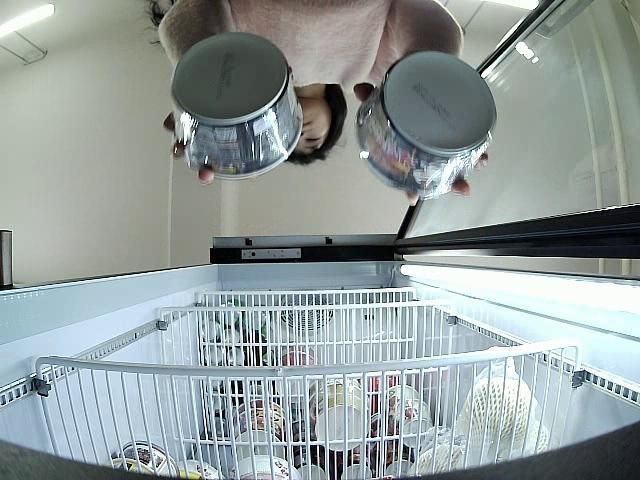07_buldak_L: (356, 47, 494, 192), (172, 31, 302, 176)
